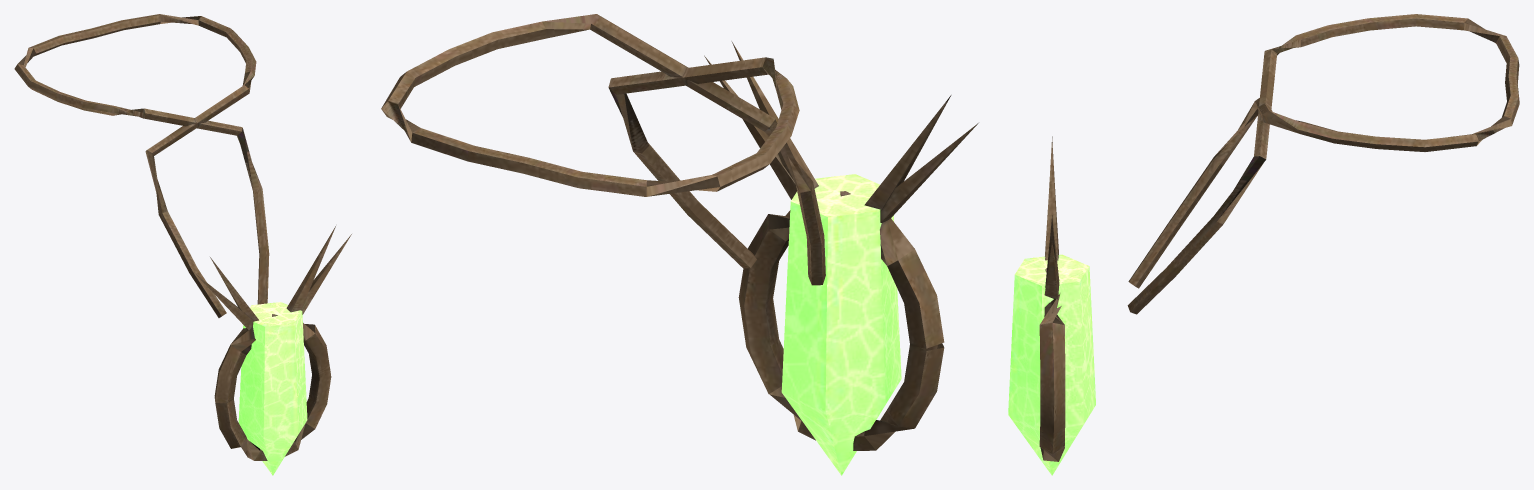
File: Amuleto_da_Natureza_nivel75.glb
3 renders of one model, left to right at view 1: azimuth 30°, elevation 25°; view 2: azimuth 150°, elevation 25°; view 3: azimuth 270°, elevation 25°, orthographic. The views are drawn at different scales.
Parts seen in each view (by area): view 1: amuleto_da_natureza_nivel75; view 2: amuleto_da_natureza_nivel75; view 3: amuleto_da_natureza_nivel75.
Boxes of the visible parts, bbox=[...] form: amuleto_da_natureza_nivel75: bbox=[14, 14, 351, 475]; amuleto_da_natureza_nivel75: bbox=[381, 14, 978, 475]; amuleto_da_natureza_nivel75: bbox=[1008, 14, 1519, 475].
Bounding box in the file's own units: 0.1584 × 0.2273 × 0.2629.
1 material, 1 textured.
